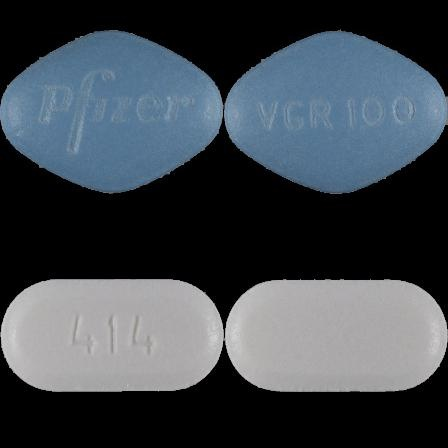54868-4706: (0, 0, 224, 224)
